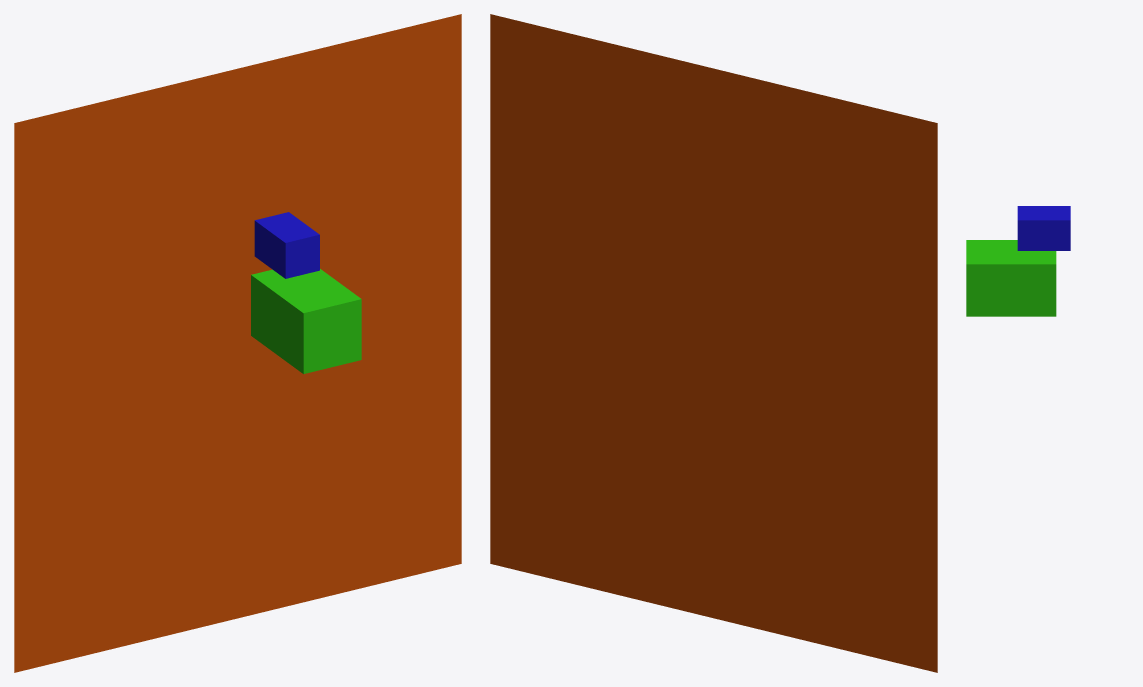
Rendered from personfbx_-Z_Y - Copy.fbx.
The picture shows the model from 3 angles, left to right: view 1: azimuth 30°, elevation 25°; view 2: azimuth 150°, elevation 25°; view 3: azimuth 270°, elevation 25°; orthographic projection. The views are drawn at different scales.
Parts seen in each view (by area): view 1: Plane, Cube, Cube.001; view 2: Plane; view 3: Cube, Cube.001.
Part boxes in pixels (box(x1,y1,x2,y2)): Plane: box(14, 14, 461, 672); Cube: box(251, 269, 361, 373); Cube.001: box(254, 212, 319, 278); Plane: box(490, 14, 937, 672); Cube: box(966, 240, 1056, 316); Cube.001: box(1017, 206, 1070, 250).
Bounding box in the file's own units: 18.7 × 21.95 × 6.85.
